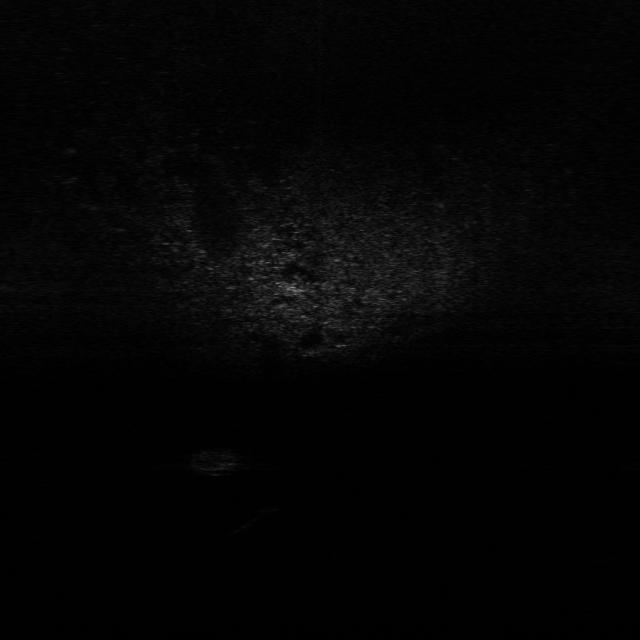circle cage: (184, 446, 250, 476)
cylinder: (232, 502, 276, 535)
